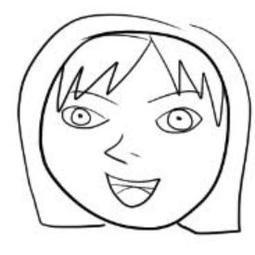eye: (148, 107, 206, 135), (58, 104, 110, 134)
frowning_eyebrow: (143, 83, 209, 104), (70, 87, 119, 105)
open_mouth: (103, 171, 165, 209)
pointy_nose: (99, 129, 140, 166)
